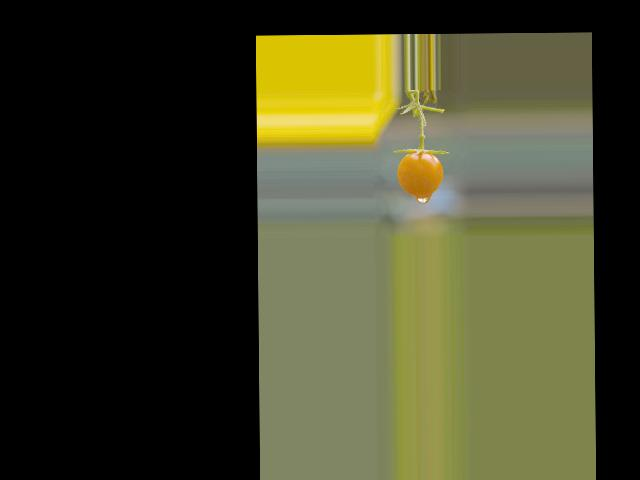tomato: (397, 151, 444, 196)
